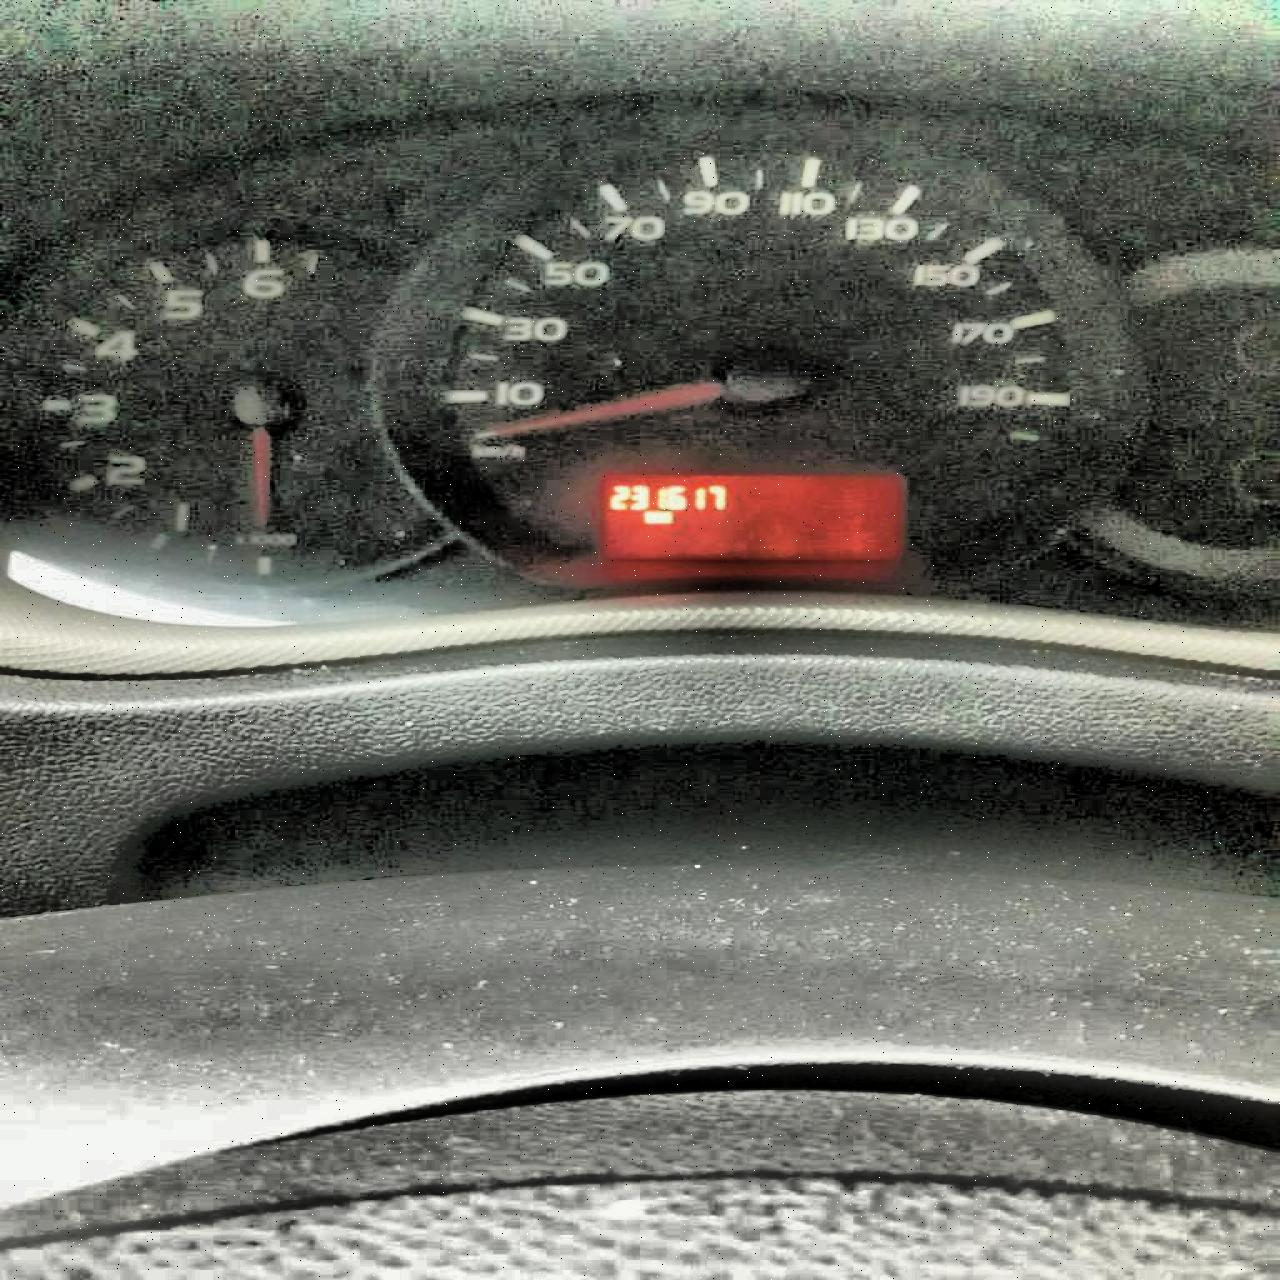1: (690, 482, 704, 512), (655, 484, 663, 510)
2: (608, 484, 627, 511)
3: (631, 482, 647, 510)
6: (666, 484, 687, 510)
7: (707, 483, 727, 512)
odometer: (601, 471, 904, 563)
